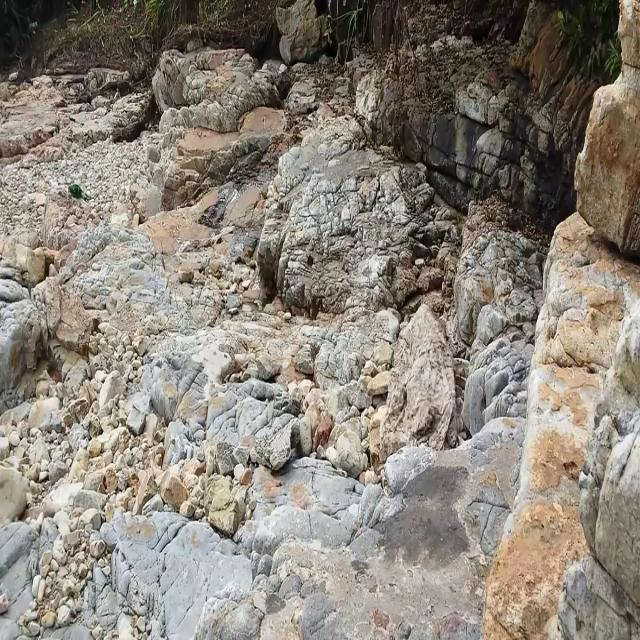Camouflage: (380, 301, 457, 464)
